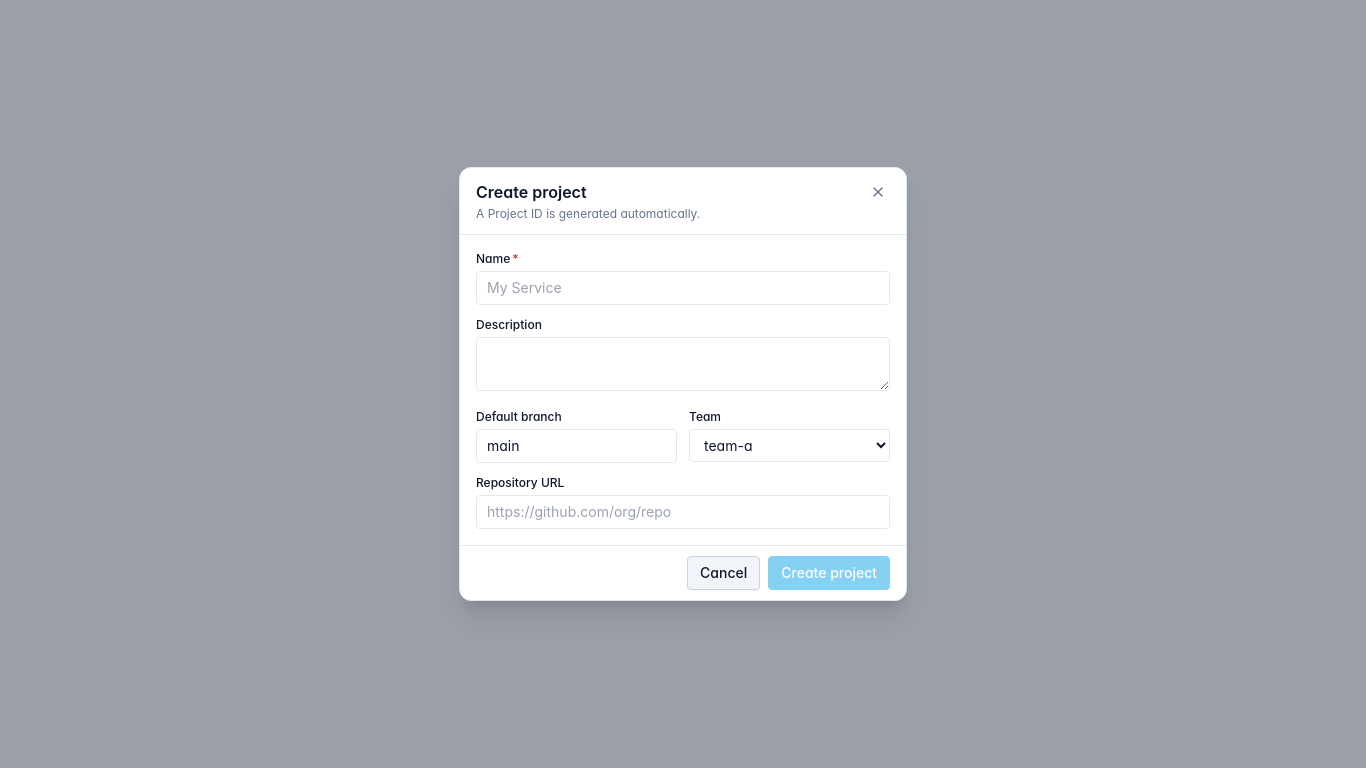
Test: ProjectFormModal — create (v1 parity) › gates submission on name only
The image size is (1366, 768).
Expected: the button "Create project" is disabled, [768,556,890,590]
Type "X" into the field with placeholder "My Service" at point(683, 288), box [476,271,890,305]
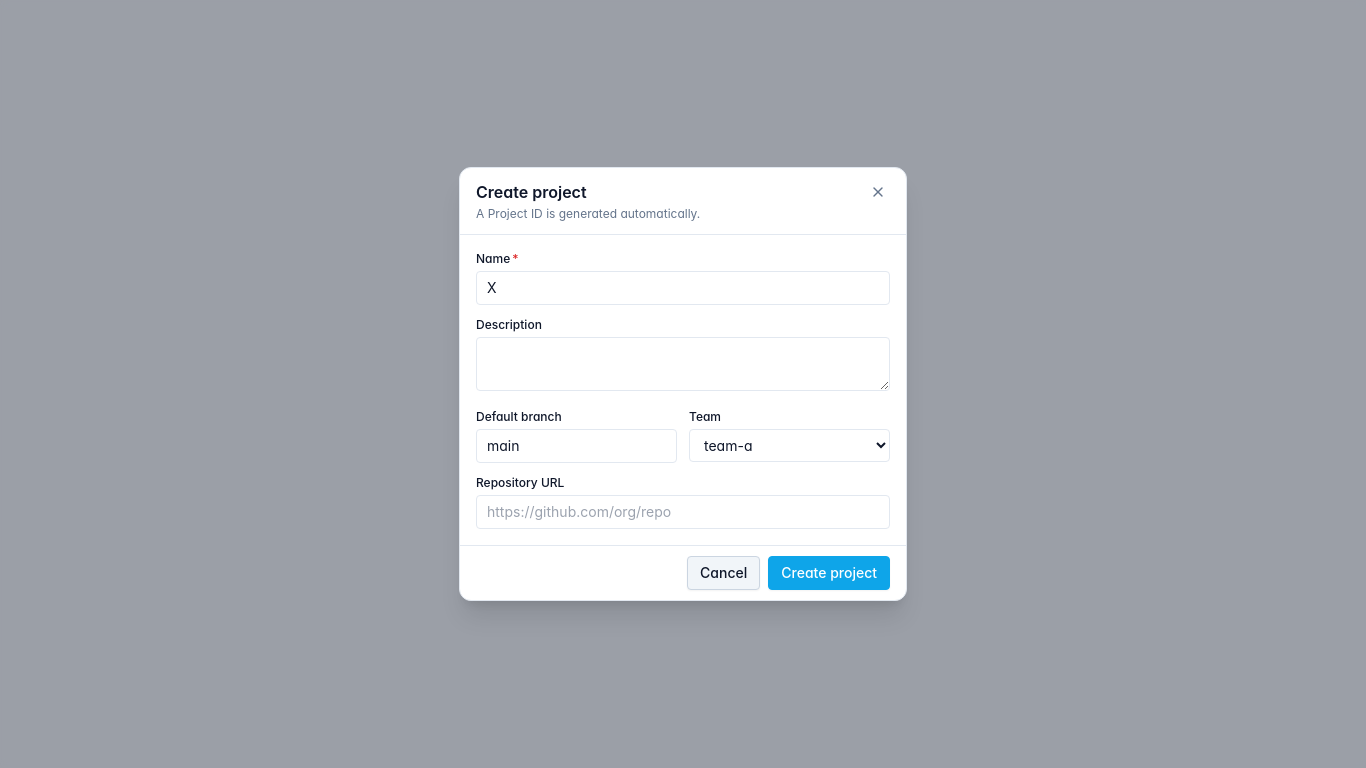
Now the button "Create project" is enabled, box [768,556,890,590]
